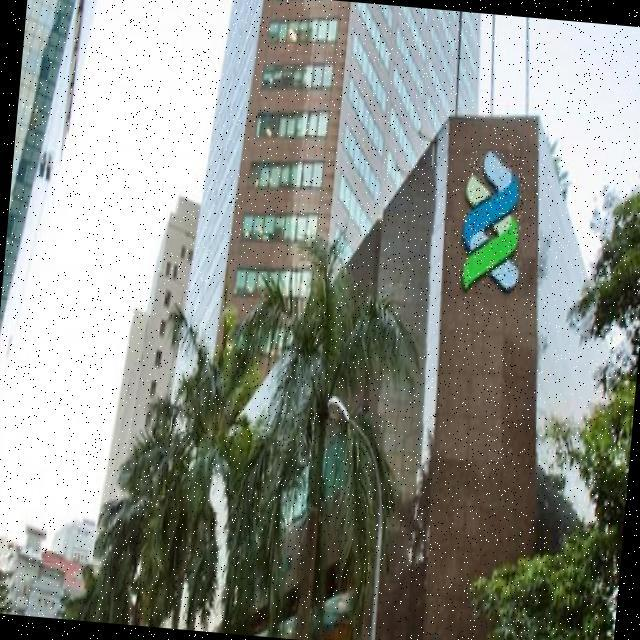Standard Chartered: (459, 150, 527, 290)
